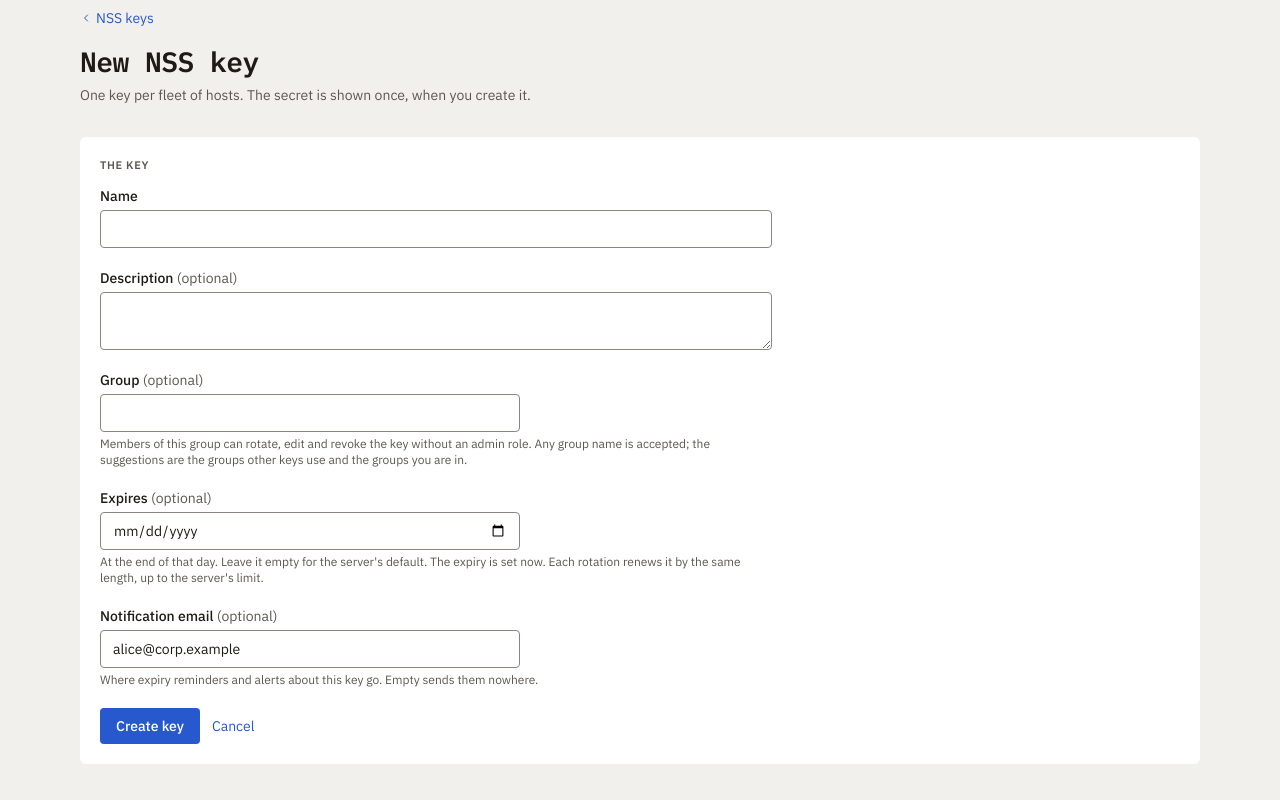
Scenario: New NSS key › should ask for a name when Create key is pressed without one
The width and height of the screenshot is (1280, 800).
Step 1. Click the button with test id "nss-key-create" → (150, 726), box x1=100 y1=708 x2=200 y2=744
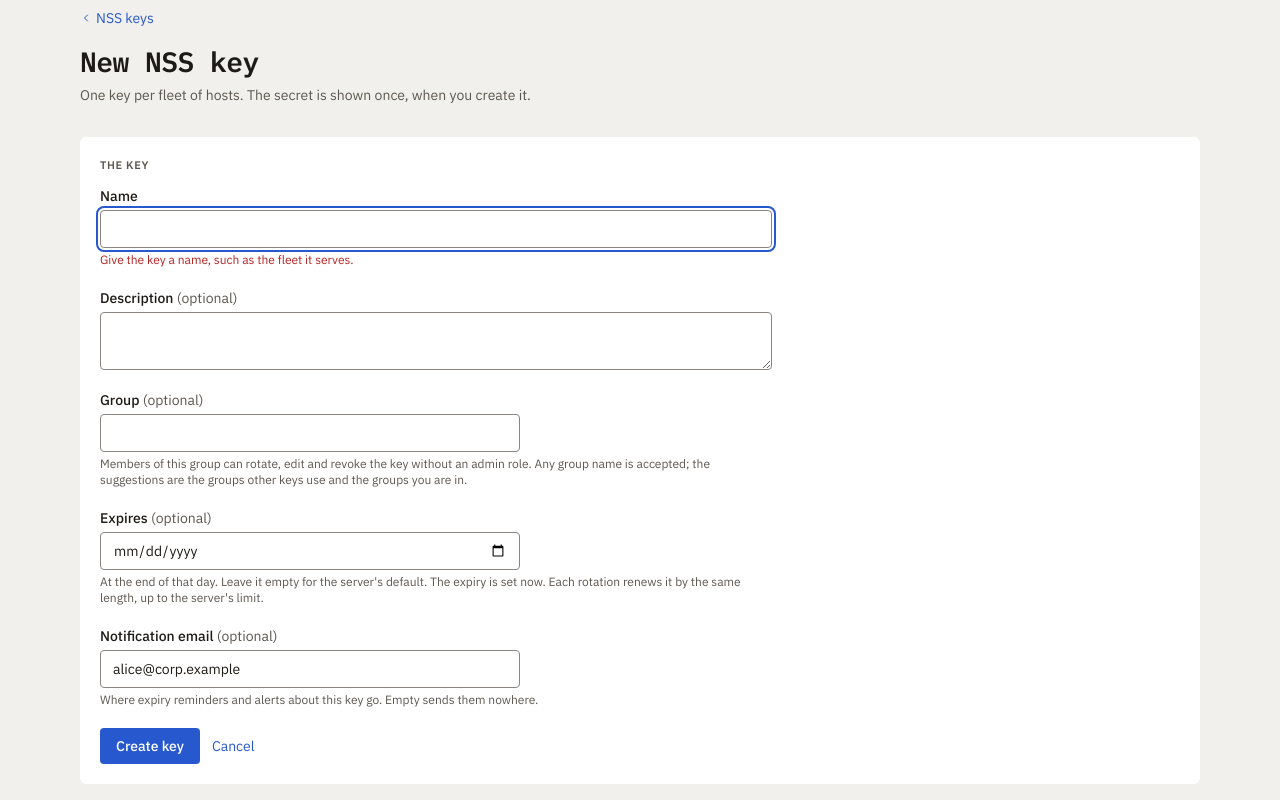
Check: the text "Give the key a name, such as the fleet it serves." is shown, box x1=100 y1=252 x2=354 y2=266
